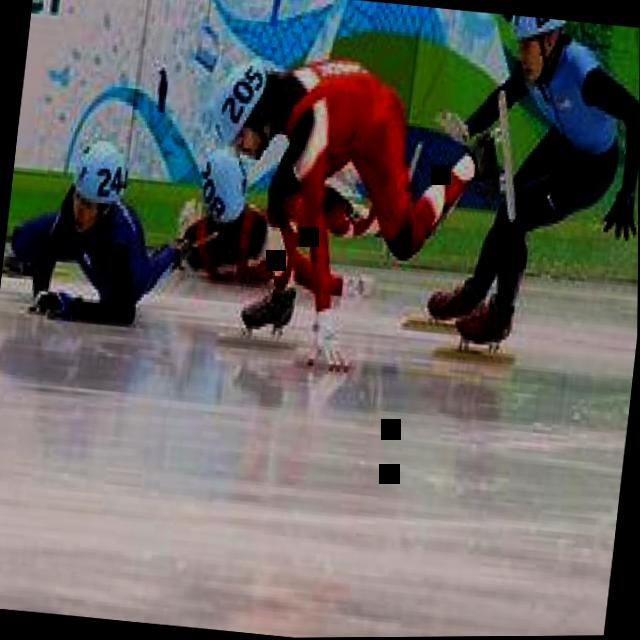Fall-Detected: (183, 22, 506, 329)
